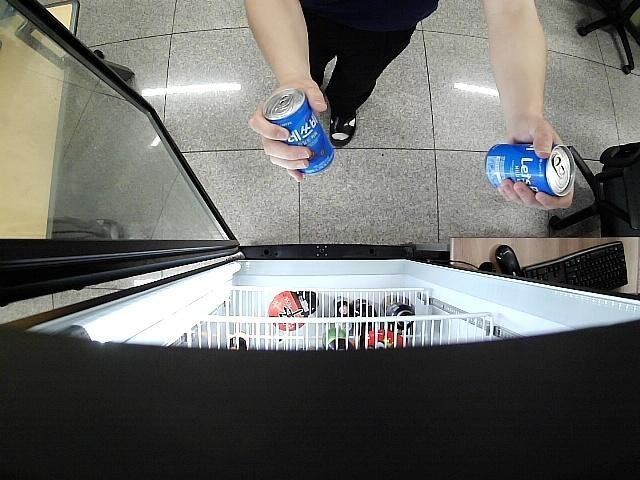15_letsbe: (261, 88, 335, 176), (484, 144, 576, 200)
